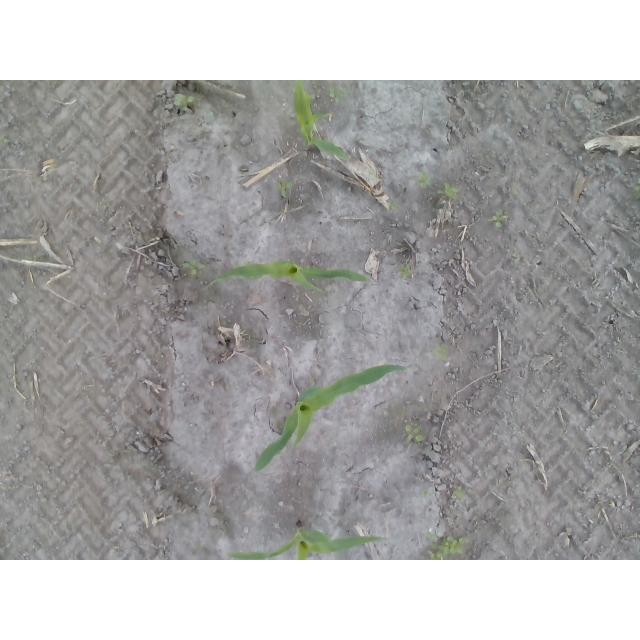Maize: (253, 364, 406, 469), (227, 521, 388, 560), (201, 260, 371, 294), (293, 80, 352, 161)
Weeds: (425, 532, 467, 561), (487, 208, 509, 228), (173, 94, 195, 111), (437, 182, 459, 199), (183, 260, 206, 276), (412, 169, 432, 187), (405, 425, 424, 443), (274, 179, 292, 197), (329, 85, 344, 104), (432, 345, 449, 361), (398, 264, 412, 280), (452, 486, 465, 498), (23, 255, 45, 262), (634, 177, 640, 199), (387, 201, 398, 212), (0, 136, 8, 146), (512, 252, 520, 262), (507, 187, 517, 195), (421, 489, 429, 497), (101, 199, 107, 209)
